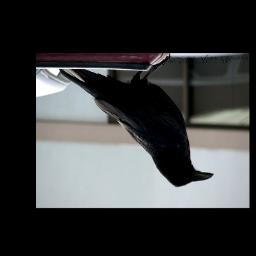Crow: (58, 55, 215, 188)
